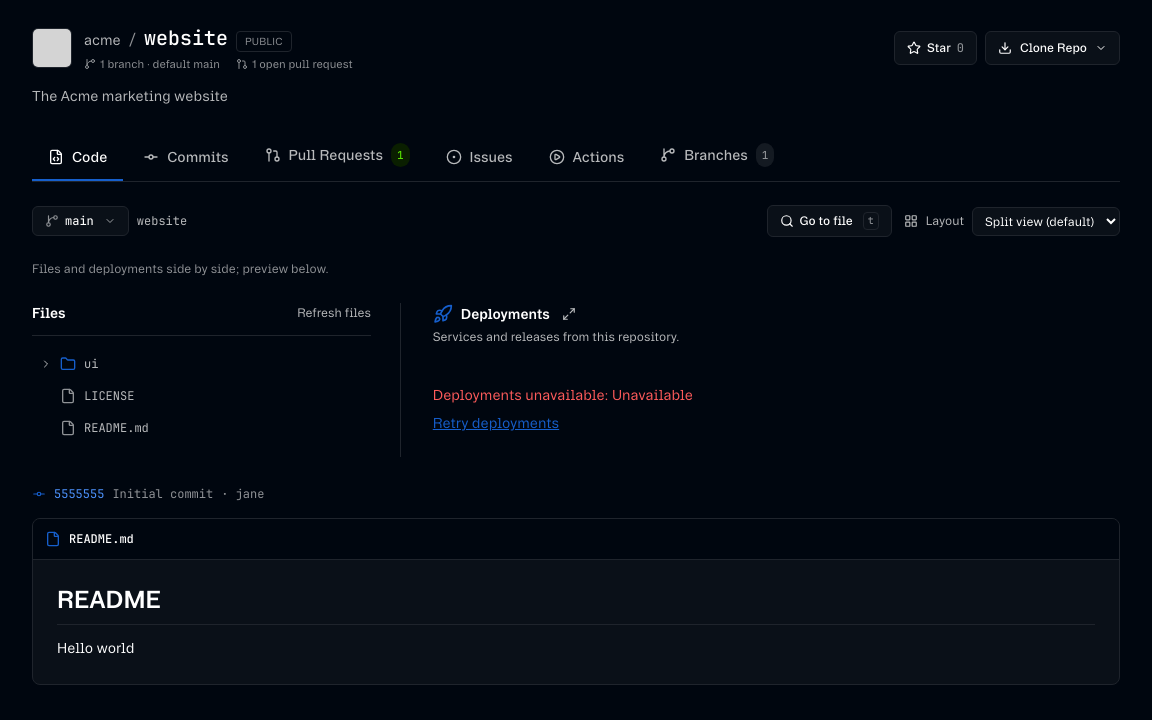
RepoView — workspace layouts › reports deployment failures with retry rather than an empty creation state
Check: the text "Deployments unavailable: Unavailable" is shown, box [433,387,693,403]
Click the button "Retry deployments": (496, 423) [433,413,559,433]
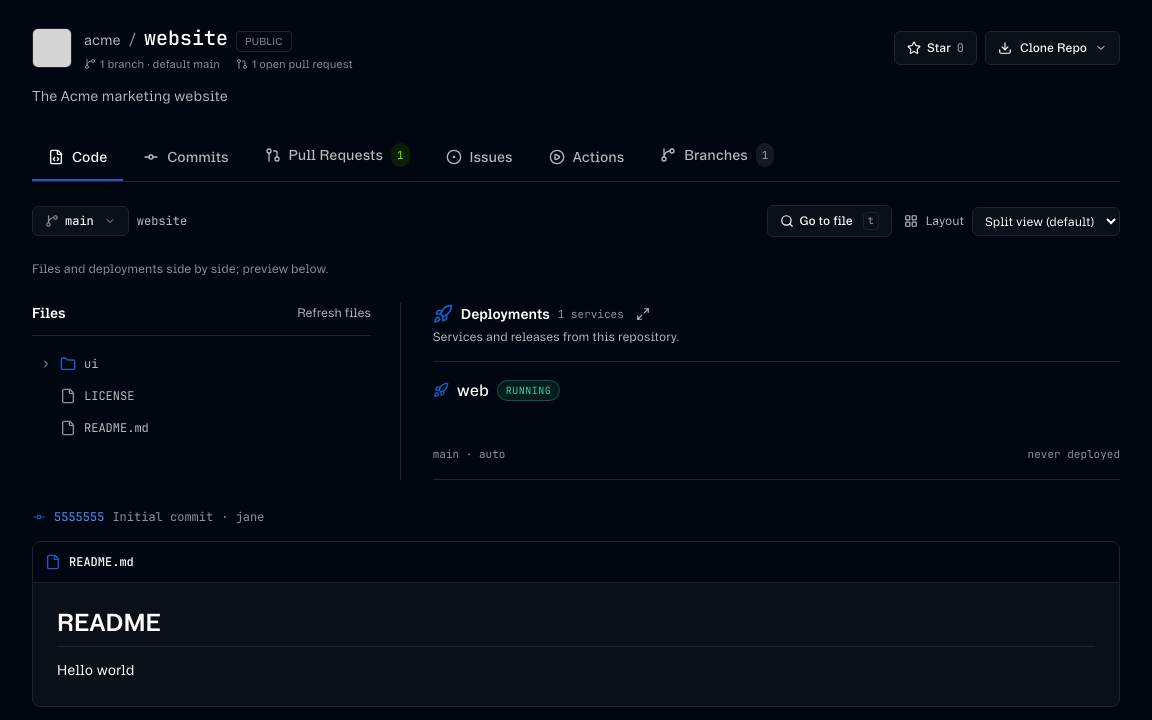
Check: the button with aria-label "View service web" is shown, box [457,378,489,402]
